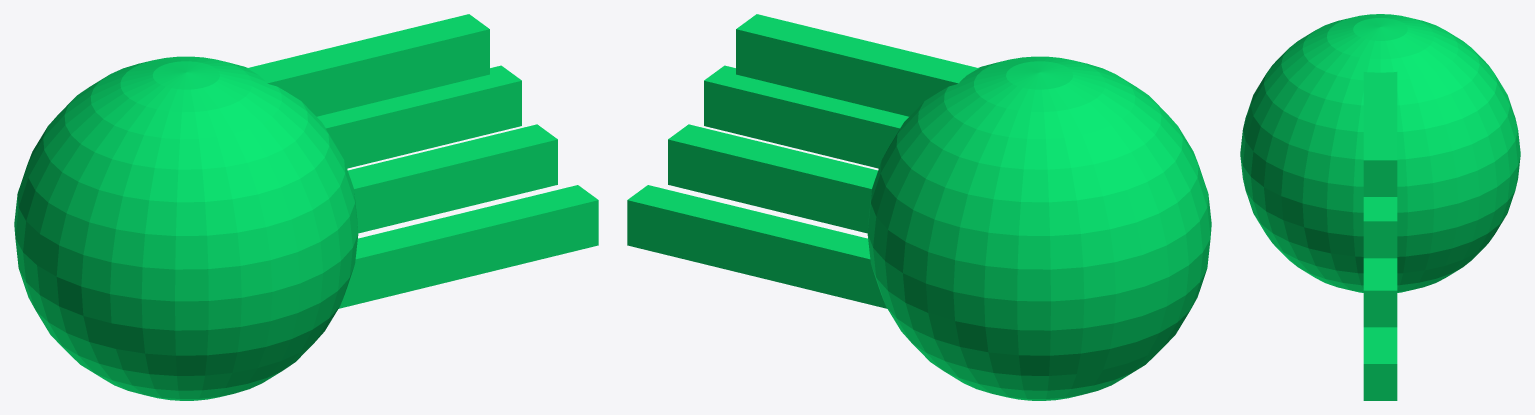
File: BaffSpeed.fbx
The picture shows the model from 3 angles, left to right: view 1: azimuth 30°, elevation 25°; view 2: azimuth 150°, elevation 25°; view 3: azimuth 270°, elevation 25°; orthographic projection. The views are drawn at different scales.
Parts seen in each view (by area): view 1: SpeedBall; view 2: SpeedBall; view 3: SpeedBall.
Boxes of the visible parts, x1,y1,x2,y2 form: SpeedBall: [14, 14, 598, 400]; SpeedBall: [627, 14, 1211, 400]; SpeedBall: [1240, 14, 1520, 400].
Bounding box in the file's own units: 369 × 200 × 200.
